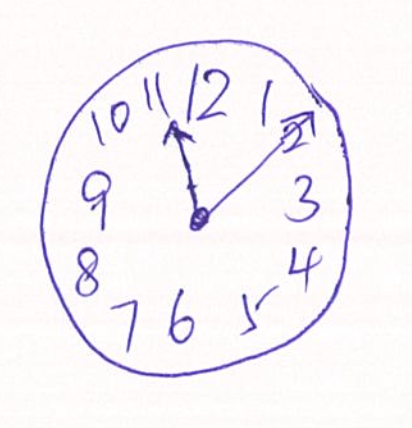1: (257, 76, 277, 127)
10: (88, 100, 133, 147)
11: (140, 70, 173, 119)
12: (184, 59, 231, 127)
2: (277, 122, 313, 154)
3: (283, 172, 321, 226)
4: (286, 243, 325, 293)
5: (235, 284, 281, 336)
6: (168, 286, 199, 345)
7: (108, 297, 143, 353)
8: (72, 245, 102, 299)
9: (79, 167, 115, 233)
contour: (36, 35, 354, 380)
hand: (163, 107, 315, 228)
top_left_arrow: (160, 118, 199, 212)
top_right_arrow: (208, 112, 315, 213)
